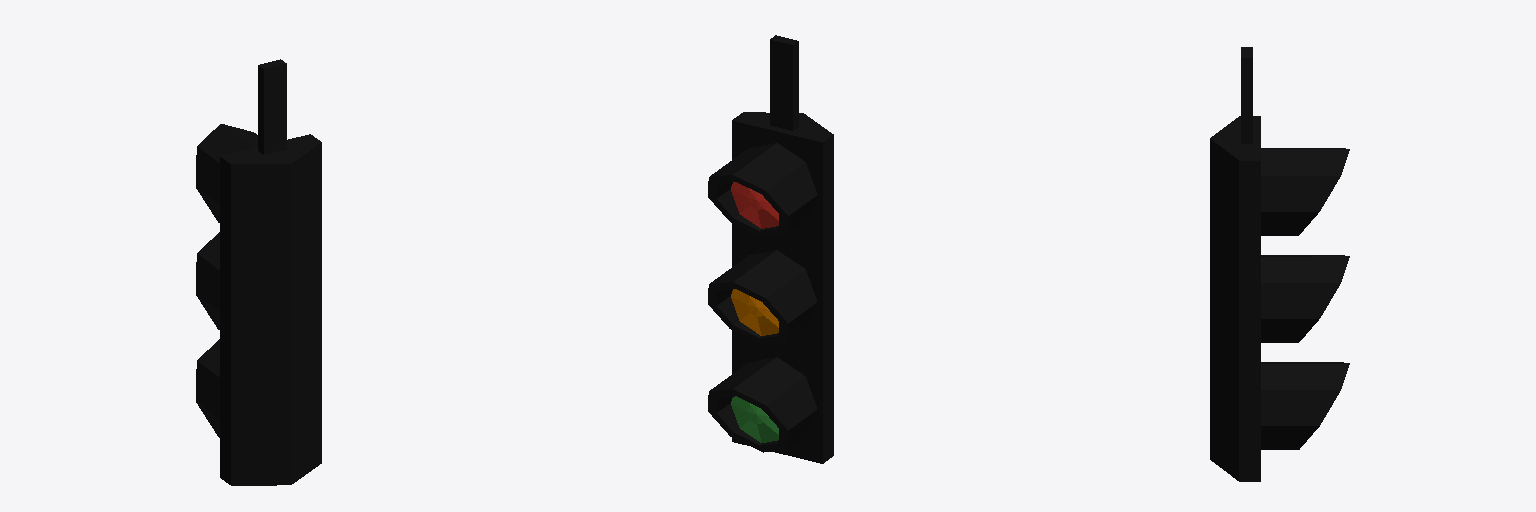
File: traffic_light.obj
3 renders of one model, left to right at view 1: azimuth 30°, elevation 25°; view 2: azimuth 150°, elevation 25°; view 3: azimuth 270°, elevation 25°, orthographic.
Visible parts, largest first — view 1: StopLight_Cube.036; view 2: StopLight_Cube.036; view 3: StopLight_Cube.036.
Part boxes in pixels (bbox=[...]): StopLight_Cube.036: bbox=[196, 59, 321, 485]; StopLight_Cube.036: bbox=[708, 35, 833, 463]; StopLight_Cube.036: bbox=[1210, 47, 1349, 481].
Bounding box in the file's own units: 2.5 × 10.7 × 3.34.